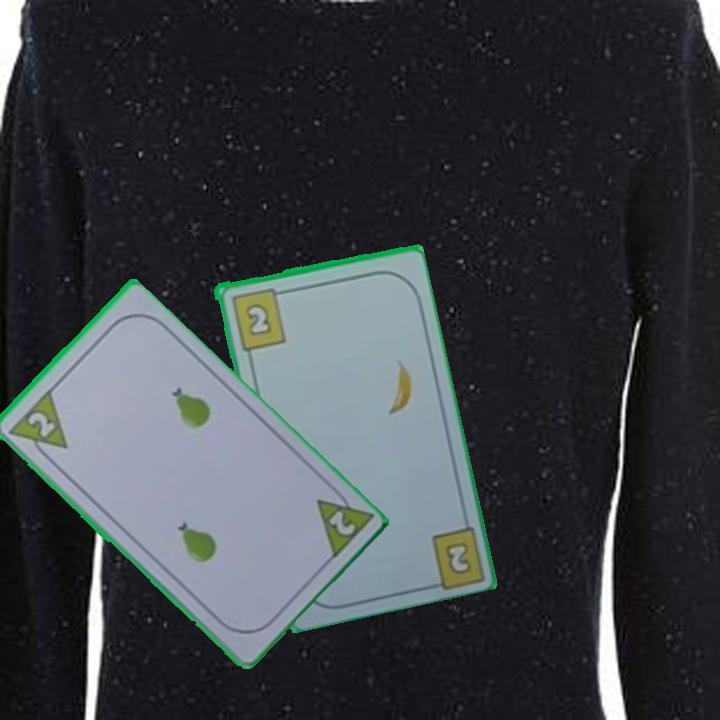2b: (422, 519, 486, 591), (227, 284, 288, 353)
2p: (3, 388, 70, 466), (324, 506, 358, 539)
